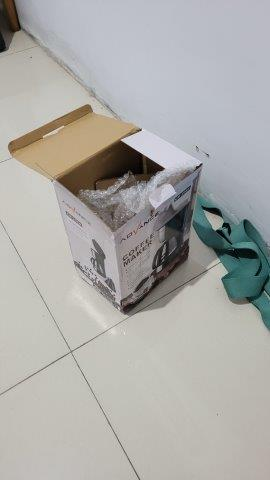kardus: (7, 106, 203, 311)
